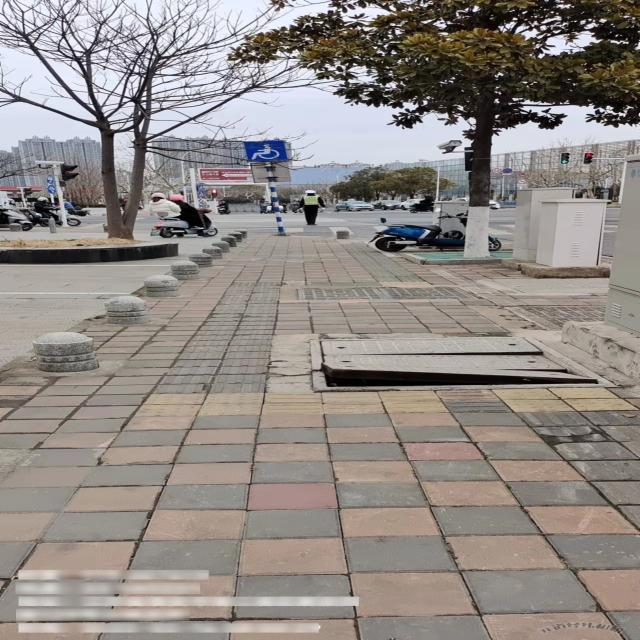Faulty: (307, 332, 624, 391)
Good: (288, 283, 488, 304)
